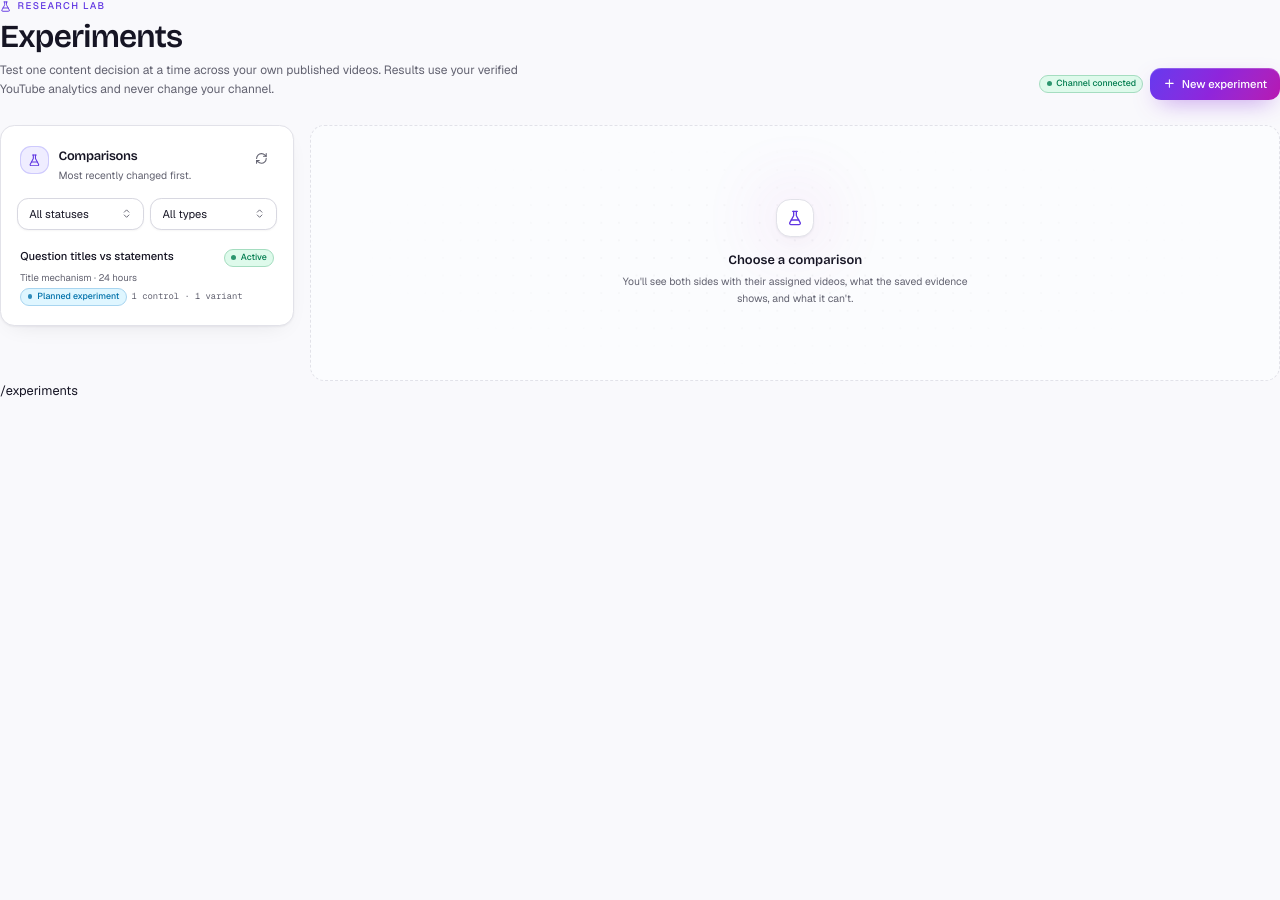
Test case: ExperimentsPage › checks the form before creating anything
This screenshot has width=1280, height=900.
Click the button "New experiment". click: (1215, 84)
box: [1150,68,1279,100]
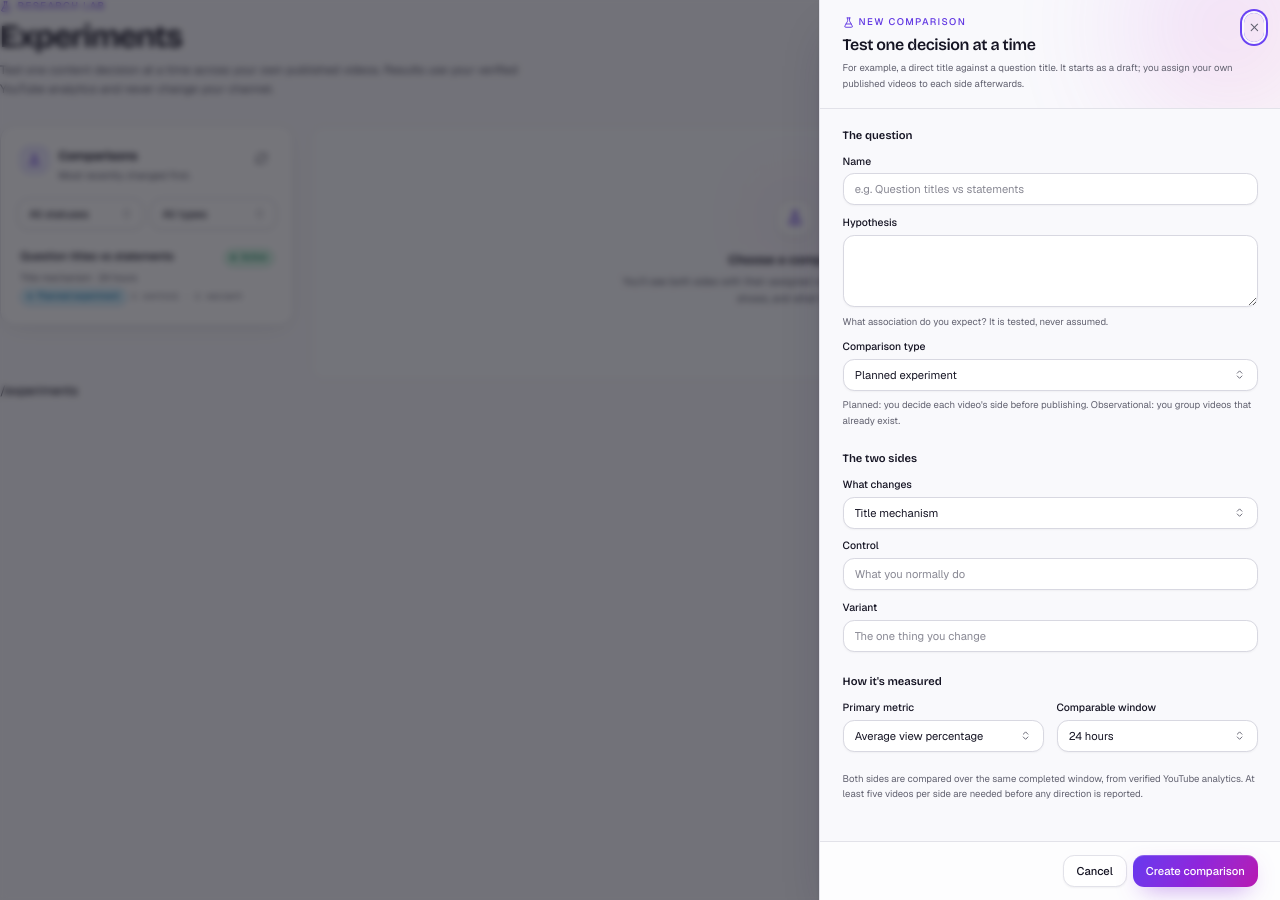
Click the button "Create comparison". click: (1195, 871)
box: [1133,855,1258,887]
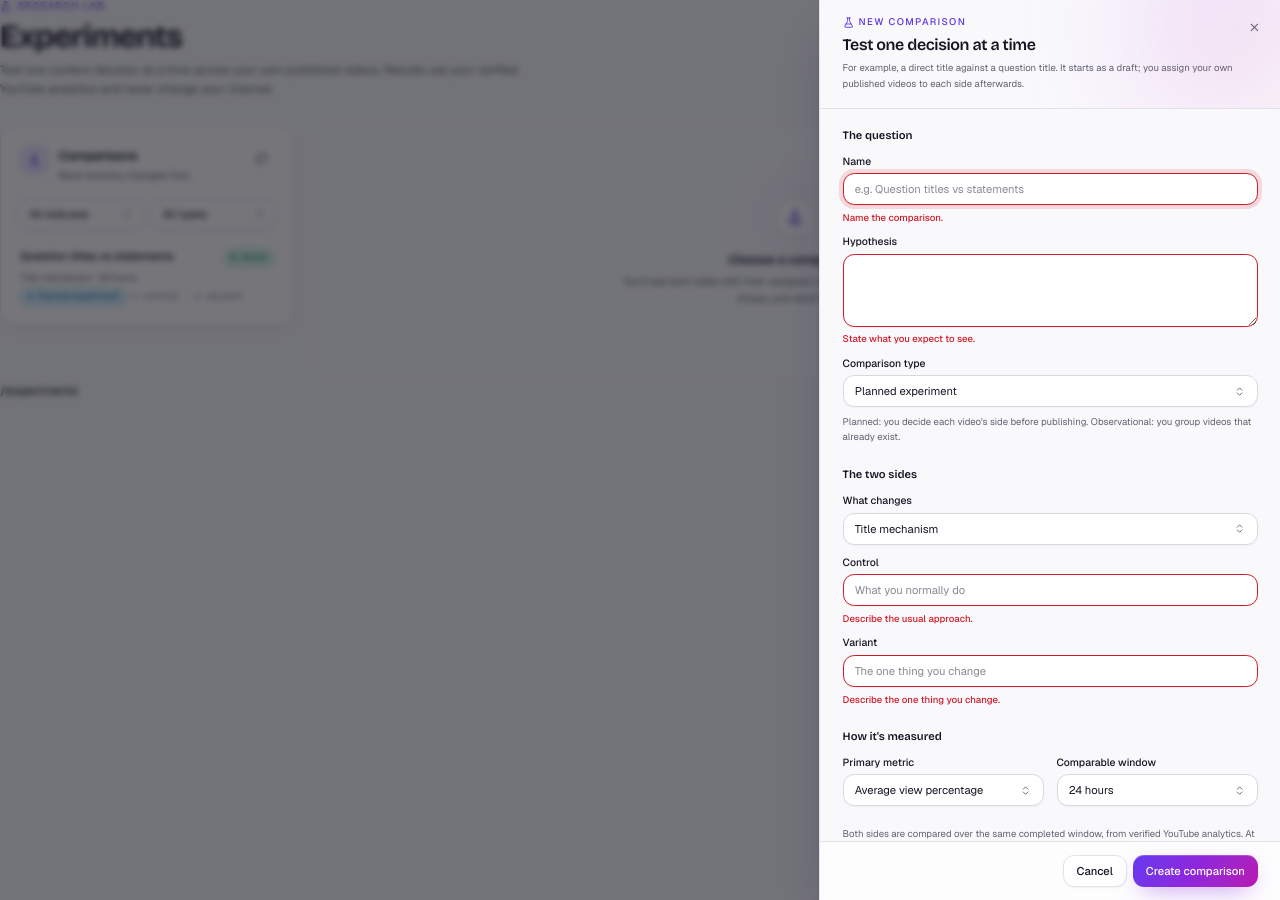
Expected: the text "Name the comparison." is shown, [843,211,943,224]
Expected: the text "Describe the one thing you change." is shown, [843,693,1000,706]
